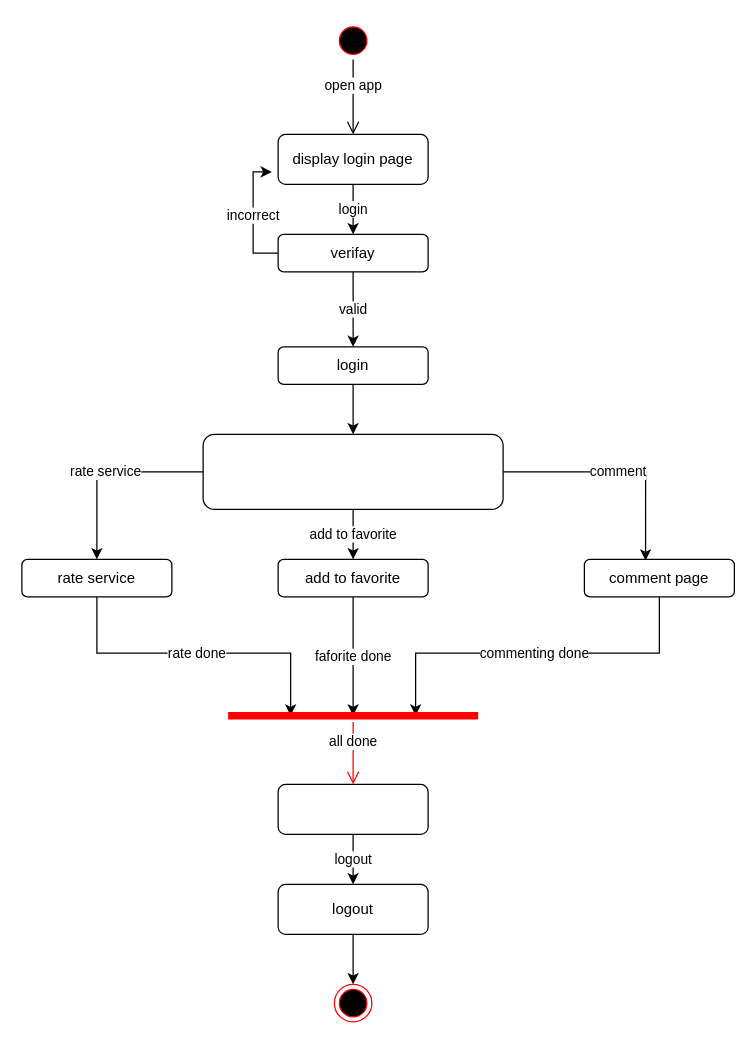
The diagram is 756 pixels wide and 1044 high, and some of its shapes have lost their labels. Each missing label, with the box of its shape:
END: (333, 983, 372, 1022)
Save: (277, 783, 428, 834)
service: (202, 433, 503, 509)
